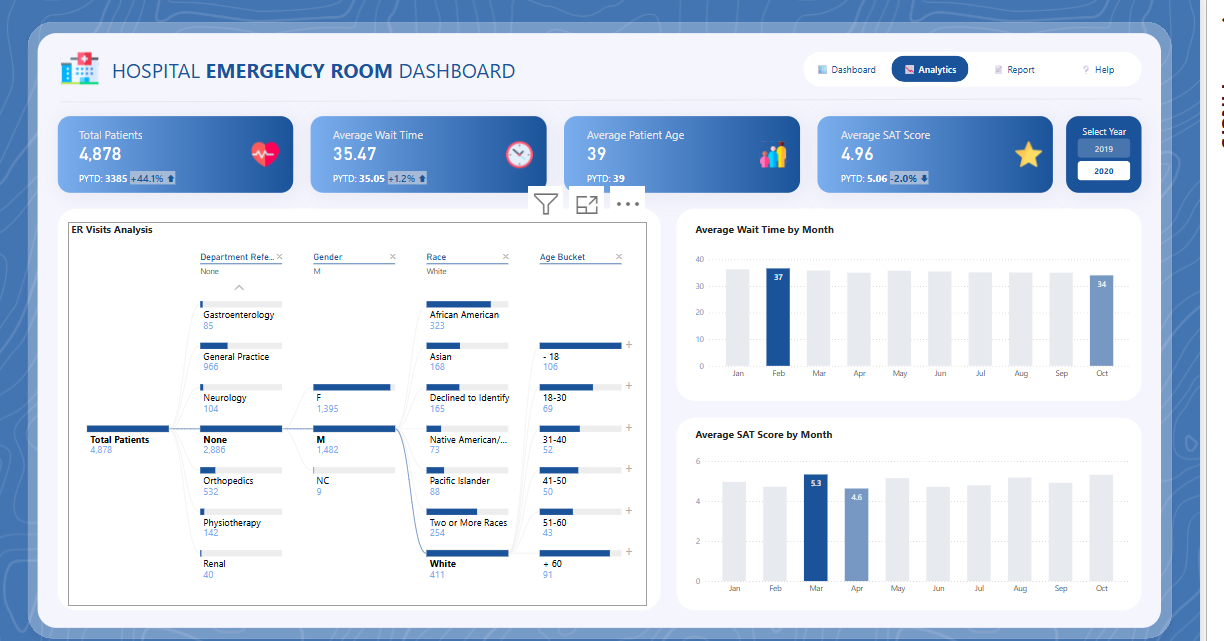

What the dashboard file says about the page in this screenshot:
{"tool":"powerbi","page":{"name":"📉 Analytics","canvas":[1920,1080],"ordinal":1},"visuals":[{"type":"cardVisual","fields":{"Data":["Hospital ER.Total Patient","Hospital ER.Average Wait Time","Hospital ER.Avg Patient Age","Hospital ER.Average SAT Score"]},"box":[119.6,194.6,1621.1,133.5],"z":0},{"type":"textbox","box":[184.1,96.8,669.5,55.9],"z":1000},{"type":"advancedSlicerVisual","title":"Select Year","fields":{"Values":["Calendar.Year"]},"box":[1725.4,212.7,87.6,93.1],"z":2000},{"type":"pageNavigator","box":[1295.5,103.7,524,42.6],"z":4000},{"type":"decompositionTreeVisual","title":"ER Visits Analysis","fields":{"Analyze":["_Measures.Total Patient"],"ExplainBy":["Hospital ER.Department Referral","Hospital ER.Gender","Hospital ER.Race","Age Bucket.Age Bucket","Calendar.Month-Year"]},"box":[119.6,367.1,921.3,611.9],"z":7000},{"type":"clusteredColumnChart","title":"Average Wait Time by Month","fields":{"Category":["Calendar.Month"],"Y":["_Measures.Average Wait Time"]},"box":[1111.2,367.1,701.9,258.8],"z":8000},{"type":"clusteredColumnChart","title":"Average SAT Score by Month","fields":{"Category":["Calendar.Month"],"Y":["_Measures.Average SAT Score"]},"box":[1111.2,694.9,701.9,274.3],"z":9000}]}

Visuals, with their boxes on the page's 1920x1080 design canvas (x1, y1, x2, y2). These are canvas units, not pixel positions in the 1224x641 screenshot, which may show the page scaled, cropped or inside an application window:
cardVisual - Hospital ER.Total Patient x Hospital ER.Average Wait Time: region(120, 195, 1741, 328)
textbox: region(184, 97, 854, 153)
"Select Year" advancedSlicerVisual: region(1725, 213, 1813, 306)
pageNavigator: region(1296, 104, 1820, 146)
"ER Visits Analysis" decompositionTreeVisual: region(120, 367, 1041, 979)
"Average Wait Time by Month" clusteredColumnChart: region(1111, 367, 1813, 626)
"Average SAT Score by Month" clusteredColumnChart: region(1111, 695, 1813, 969)
